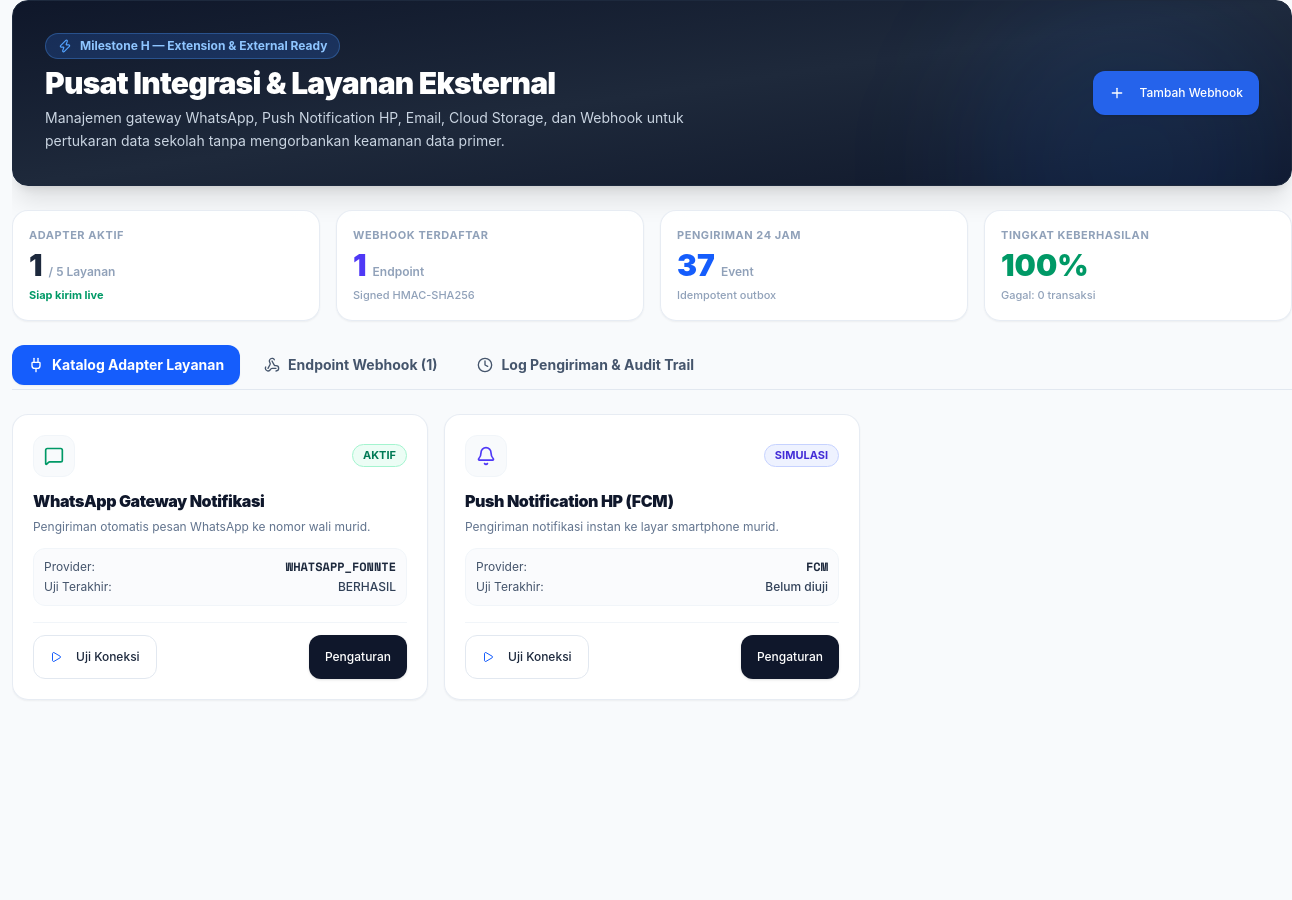
Test case: IntegrationPortalView (Academic Glass UI v1.2) › berpindah ke tab Log Pengiriman & Audit Trail
Click the button "Log Pengiriman & Audit Trail".
click(586, 364)  # box [462, 344, 710, 384]
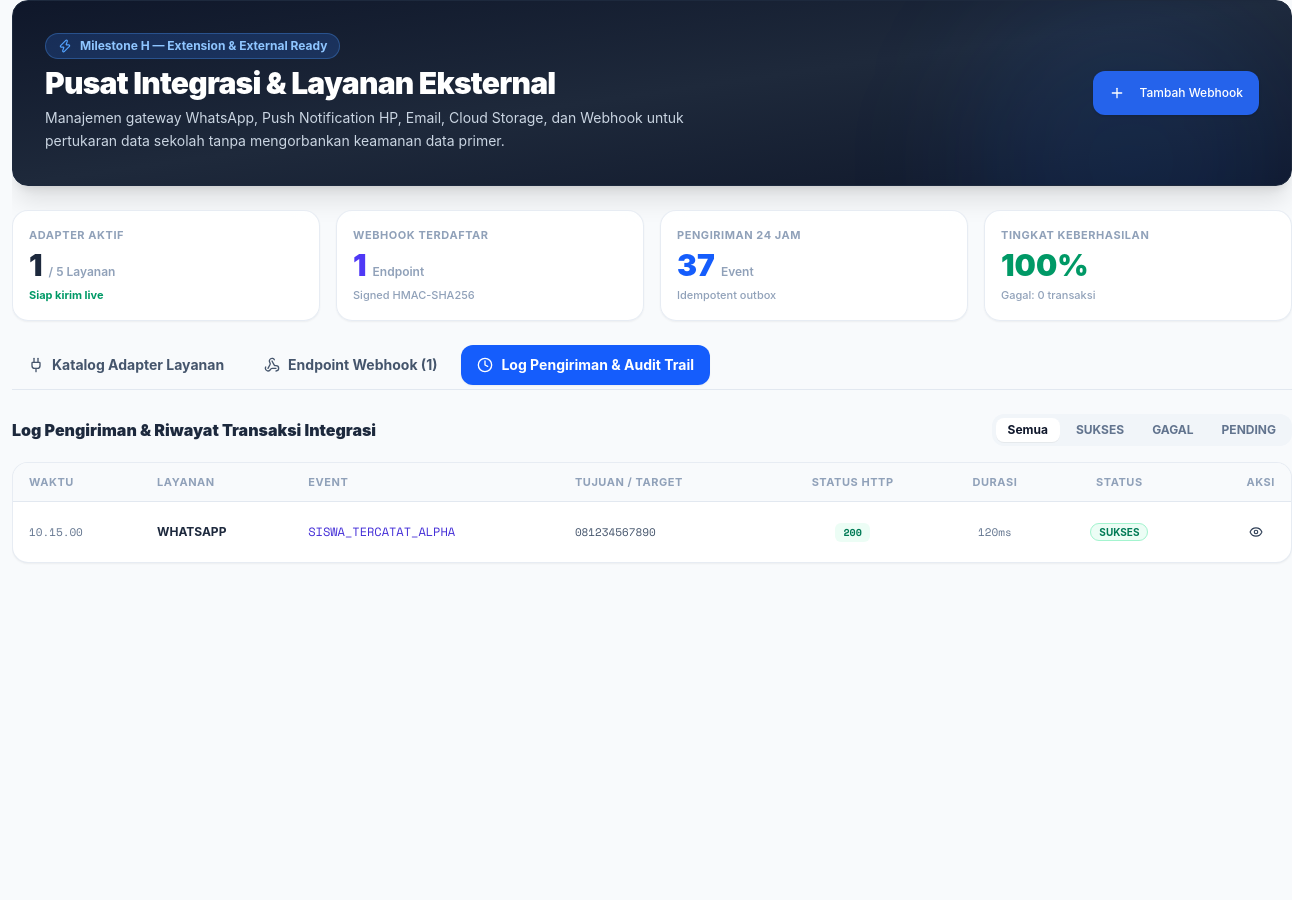
Expected: the heading "Log Pengiriman & Riwayat Transaksi Integrasi" is shown, [12, 418, 376, 442]
Expected: the text "SISWA_TERCATAT_ALPHA" is shown, [292, 502, 559, 562]
Expected: the text "081234567890" is shown, [559, 502, 768, 562]
